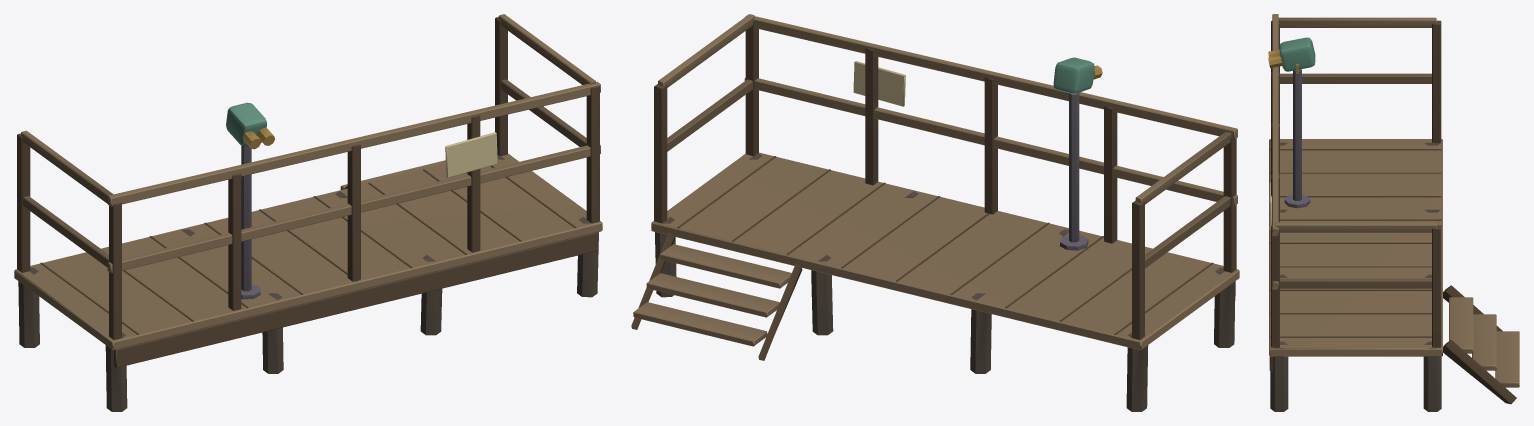
The model's file is platform_viewing.glb.
3 renders of one model, left to right at view 1: azimuth 30°, elevation 25°; view 2: azimuth 150°, elevation 25°; view 3: azimuth 270°, elevation 25°, orthographic. The views are drawn at different scales.
Parts seen in each view (by area): view 1: platform_viewing; view 2: platform_viewing; view 3: platform_viewing.
Part boxes in pixels (x1,y1,x2,y2): platform_viewing: [14, 14, 602, 411]; platform_viewing: [631, 14, 1239, 411]; platform_viewing: [1268, 14, 1519, 411].
Bounding box in the file's own units: 3.86 × 1.94 × 1.95.
